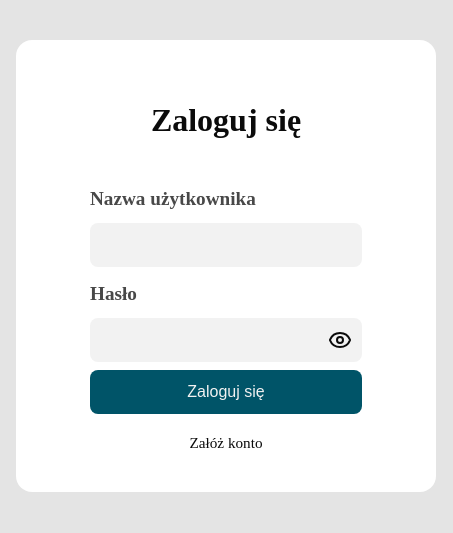
it: Login › validate empty form
Click the button "Zaloguj się" at (226, 392), box [90, 370, 362, 414]
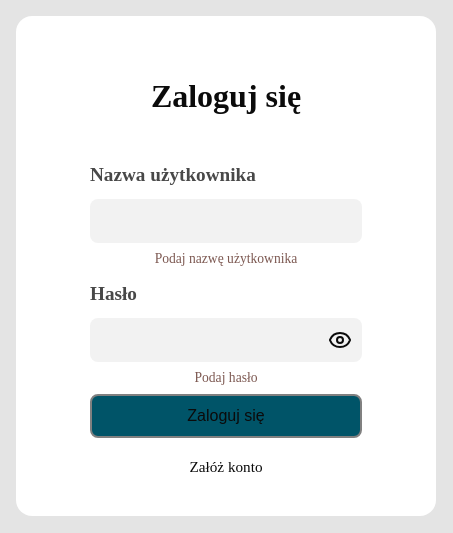
expect the text "Podaj nazwę użytkownika" is shown: met, box [155, 251, 297, 266]
expect the text "Podaj hasło" is shown: met, box [194, 370, 258, 385]
